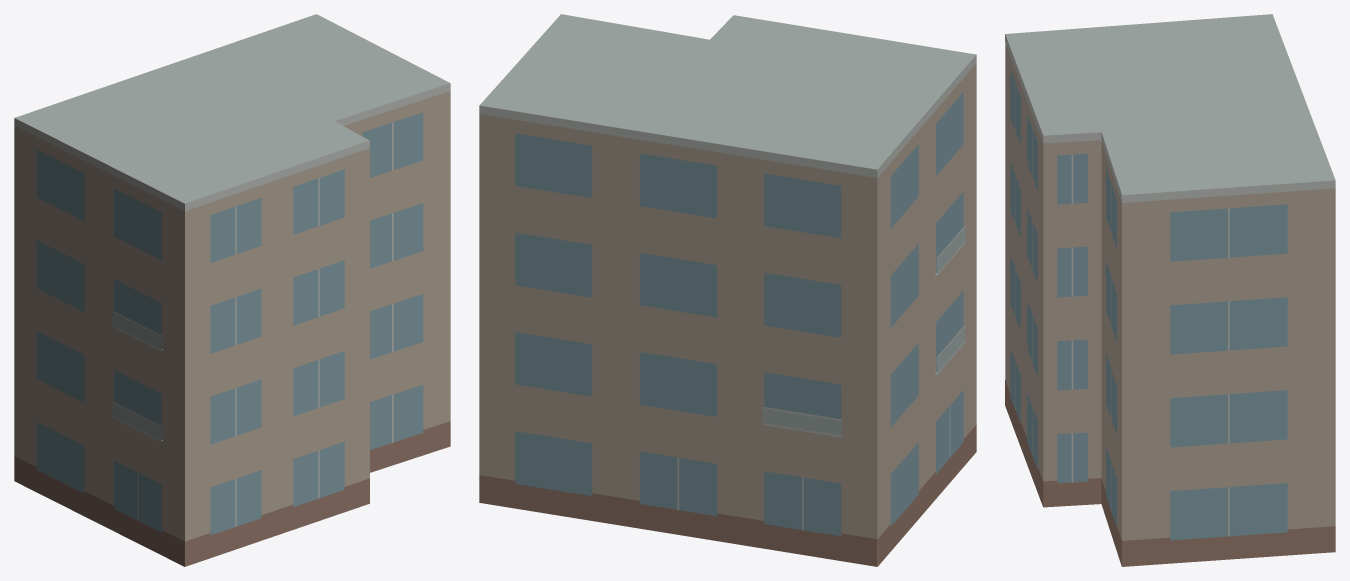
The model's file is survey-upis-32981271.glb.
3 renders of one model, left to right at view 1: azimuth 30°, elevation 25°; view 2: azimuth 150°, elevation 25°; view 3: azimuth 270°, elevation 25°, orthographic. The views are drawn at different scales.
Parts seen in each view (by area): view 1: survey-upis-32981271.tmp; view 2: survey-upis-32981271.tmp; view 3: survey-upis-32981271.tmp.
Boxes of the visible parts, <box> form: survey-upis-32981271.tmp: <box>14,14,450,566</box>; survey-upis-32981271.tmp: <box>479,14,976,566</box>; survey-upis-32981271.tmp: <box>1005,14,1335,566</box>.
Size of the model in its own units: 12.12 by 11.58 by 9.34.
